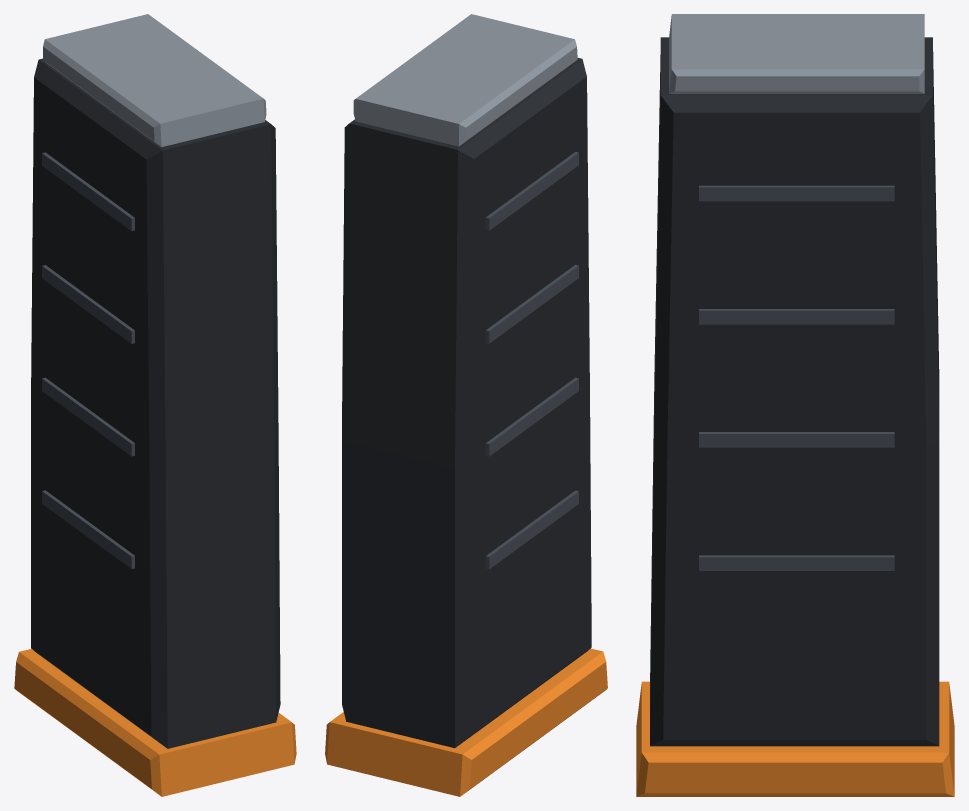
File: att_magazine_ext.glb
3 renders of one model, left to right at view 1: azimuth 30°, elevation 25°; view 2: azimuth 150°, elevation 25°; view 3: azimuth 270°, elevation 25°, orthographic. The views are drawn at different scales.
Parts seen in each view (by area): view 1: Body; view 2: Body; view 3: Body.
Boxes of the visible parts, box(x1,y1,x2,y2) form: Body: box(14, 14, 296, 796); Body: box(325, 14, 607, 796); Body: box(636, 14, 954, 796).
Size of the model in its own units: 0.0336 by 0.146 by 0.0585.
